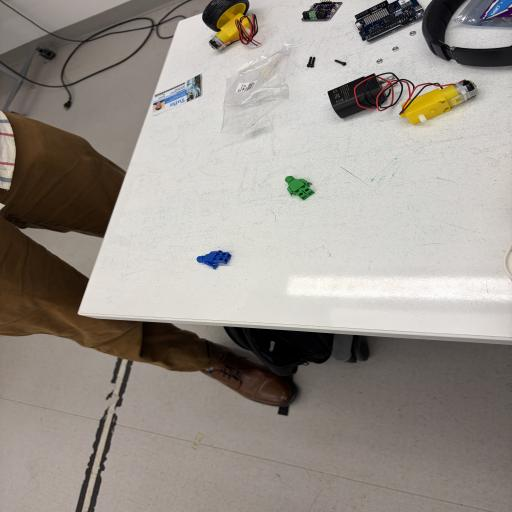Blue-Lego: (196, 250, 231, 270)
Green-Lego: (285, 176, 315, 200)
